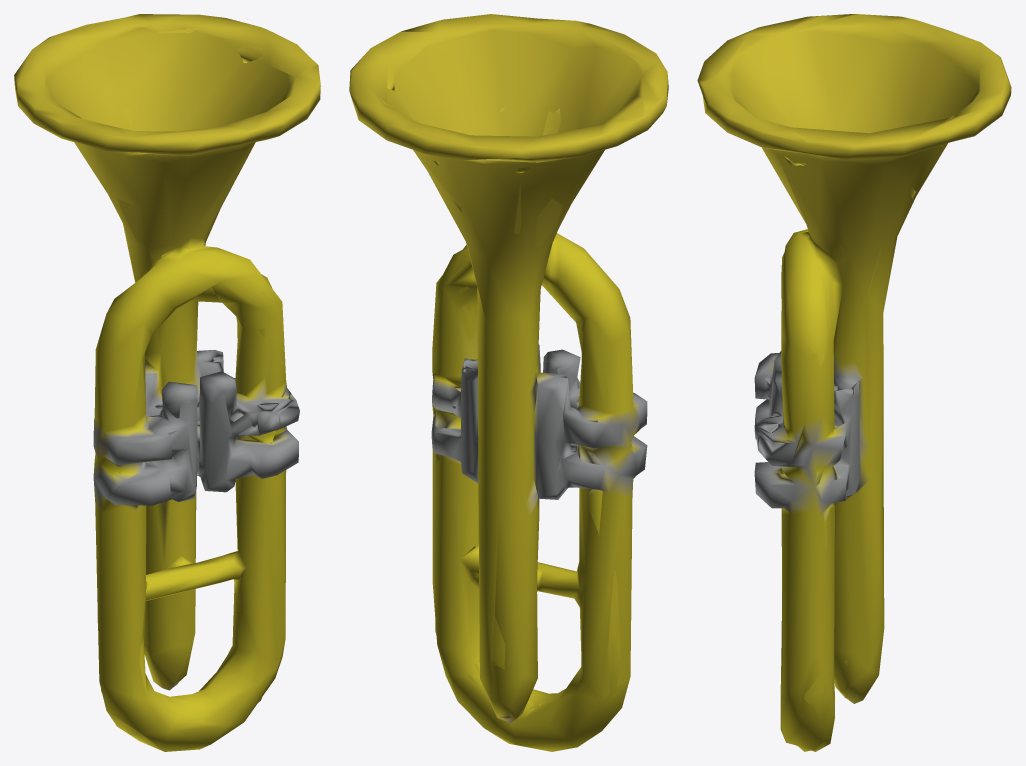
Rendered from gen3d-tuba-lod0.glb.
3 renders of one model, left to right at view 1: azimuth 30°, elevation 25°; view 2: azimuth 150°, elevation 25°; view 3: azimuth 270°, elevation 25°, orthographic. The views are drawn at different scales.
Parts seen in each view (by area): view 1: part_0; view 2: part_0; view 3: part_0.
Part boxes in pixels (x1,y1,x2,y2): part_0: [14, 14, 320, 751]; part_0: [349, 14, 668, 751]; part_0: [697, 14, 1011, 751].
Bounding box in the file's own units: 0.427 × 0.9985 × 0.4269.
